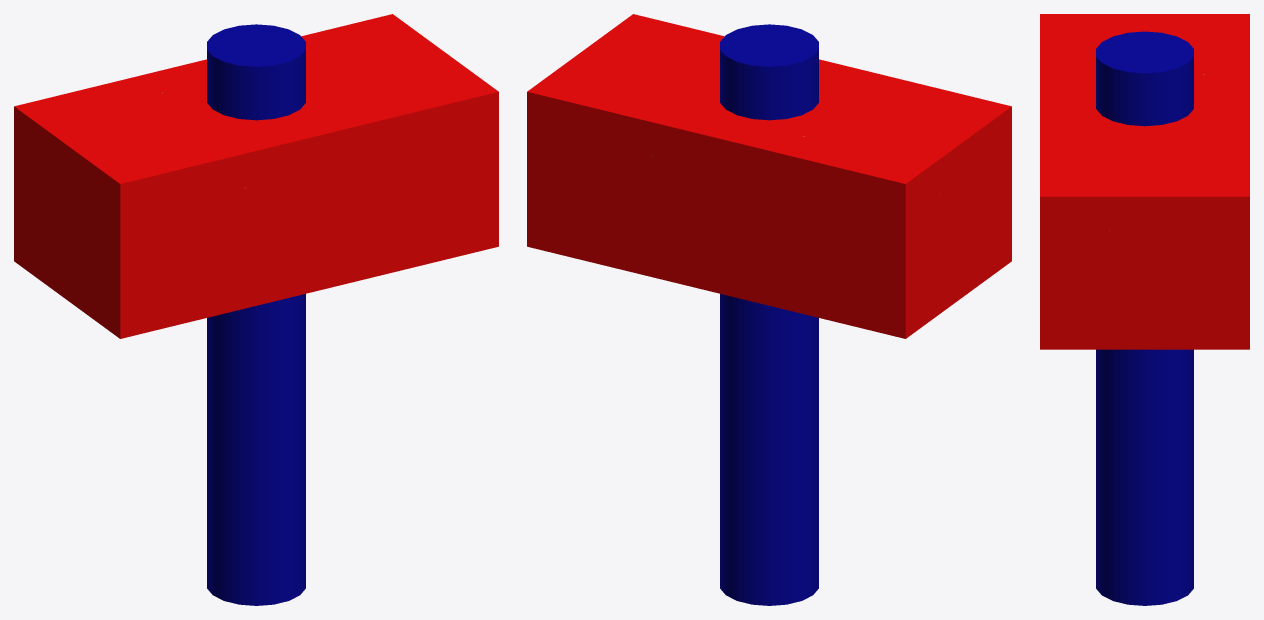
The model's file is hammer.FBX.
3 views of the same model, side by side, from view 1: azimuth 30°, elevation 25°; view 2: azimuth 150°, elevation 25°; view 3: azimuth 270°, elevation 25° (orthographic).
Visible parts, largest first — view 1: Box001, Cylinder001; view 2: Box001, Cylinder001; view 3: Box001, Cylinder001.
Part boxes in pixels (left/top/right/bottom): Box001: left=14, top=14, right=498, bottom=338; Cylinder001: left=207, top=24, right=305, bottom=605; Box001: left=527, top=14, right=1011, bottom=338; Cylinder001: left=720, top=24, right=818, bottom=605; Box001: left=1040, top=14, right=1249, bottom=349; Cylinder001: left=1096, top=31, right=1193, bottom=605.
Bounding box in the file's own units: 25.24 × 12.26 × 34.34.
